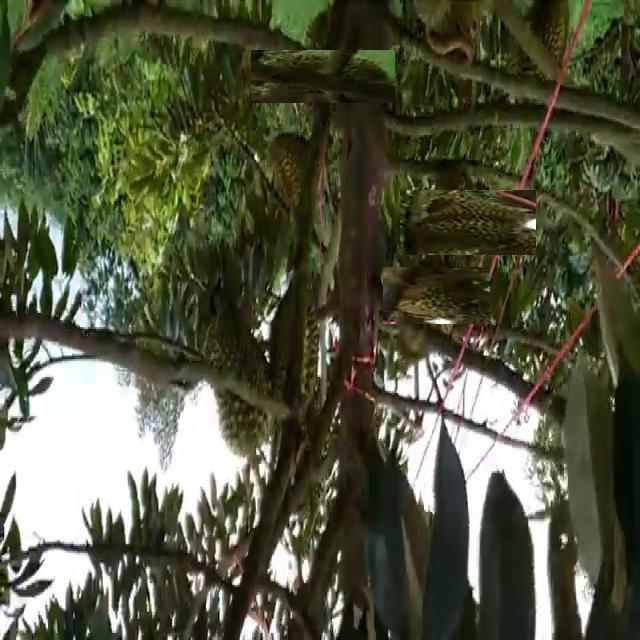durian: (194, 293, 273, 466), (417, 173, 518, 273), (262, 271, 325, 430), (274, 27, 373, 126), (395, 254, 478, 337), (260, 127, 323, 223), (513, 3, 571, 86)
